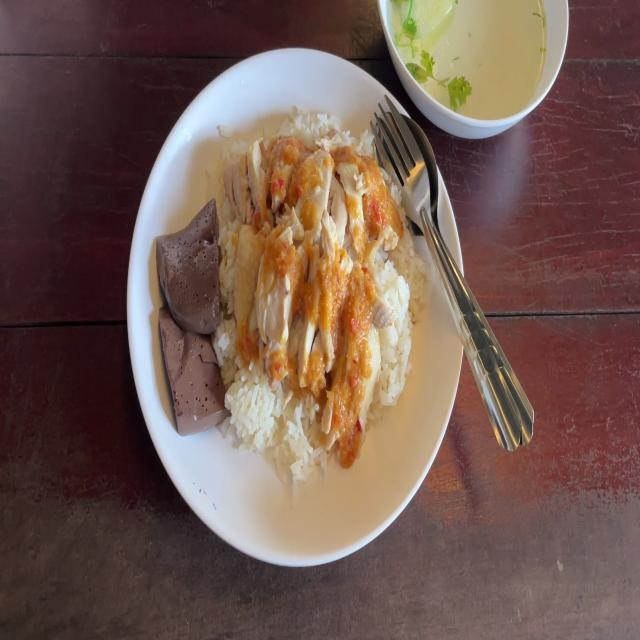boiled_chicken: (240, 138, 371, 400)
boiled_chicken_blood_jelly: (162, 310, 226, 436), (161, 200, 219, 328)
chicken_rice: (162, 113, 418, 480)
